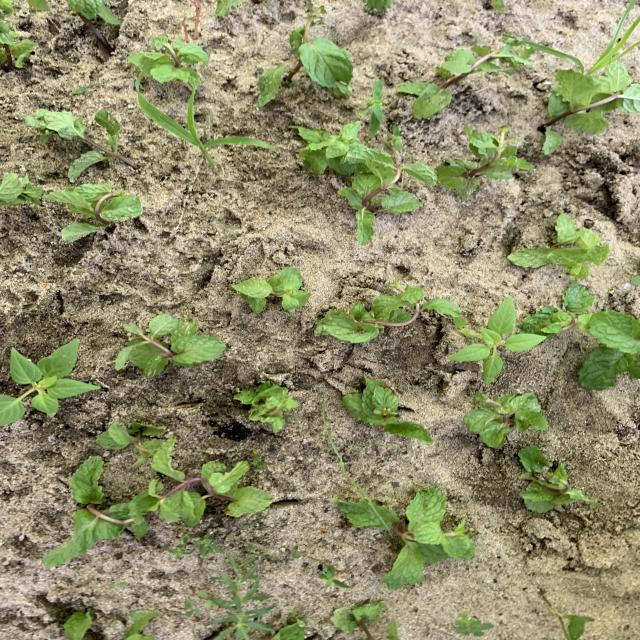crop: (334, 485, 475, 586), (133, 438, 271, 525), (44, 457, 147, 566), (339, 143, 437, 244), (401, 44, 526, 118), (545, 63, 639, 153), (316, 284, 461, 342), (258, 16, 352, 105), (27, 110, 134, 179), (436, 126, 532, 199), (116, 315, 225, 378), (509, 214, 609, 279), (340, 376, 431, 442), (45, 183, 141, 241), (519, 446, 603, 511), (579, 311, 639, 389), (465, 393, 547, 447), (292, 122, 373, 175), (129, 34, 207, 88), (520, 280, 594, 336), (231, 267, 310, 311), (236, 382, 299, 431), (97, 423, 163, 463), (332, 602, 383, 639), (1, 18, 35, 67), (1, 174, 42, 206), (68, 0, 120, 24), (124, 610, 156, 639), (217, 1, 240, 15), (365, 1, 392, 11)
weed: (136, 89, 274, 174), (448, 296, 546, 384), (0, 340, 99, 424), (200, 553, 275, 640), (589, 1, 639, 73), (362, 79, 383, 136), (456, 615, 492, 636), (539, 45, 580, 63), (193, 533, 222, 556), (319, 565, 349, 587), (385, 126, 403, 150), (165, 543, 193, 558), (247, 544, 274, 557), (250, 451, 267, 468), (185, 599, 201, 615), (490, 1, 503, 11), (74, 87, 87, 94), (291, 549, 300, 557)
